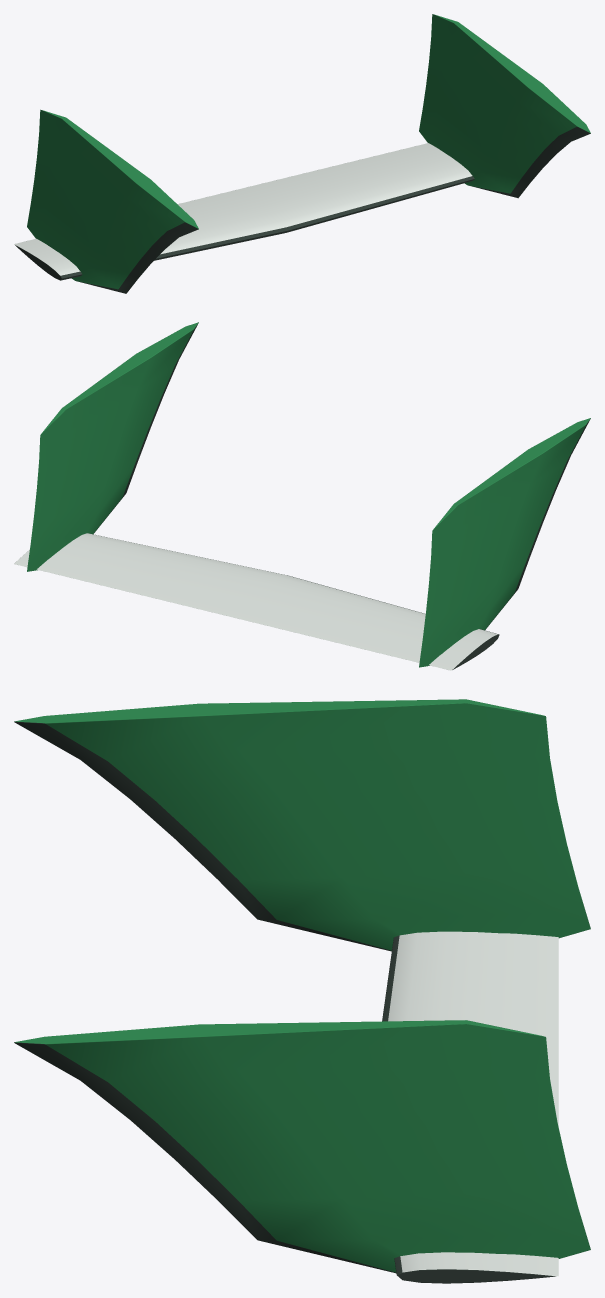
Rendered from wraith_tail_lg.fbx.
3 views of the same model, one above another, from view 1: azimuth 30°, elevation 25°; view 2: azimuth 150°, elevation 25°; view 3: azimuth 270°, elevation 25° (orthographic). The views are drawn at different scales.
Parts seen in each view (by area): view 1: Tail_Aitch; view 2: Tail_Aitch; view 3: Tail_Aitch.
Part boxes in pixels (x1,y1,x2,y2): Tail_Aitch: (14,14,590,293); Tail_Aitch: (14,322,590,670); Tail_Aitch: (14,699,590,1283).
Bounding box in the file's own units: 115 × 38.33 × 78.04.
